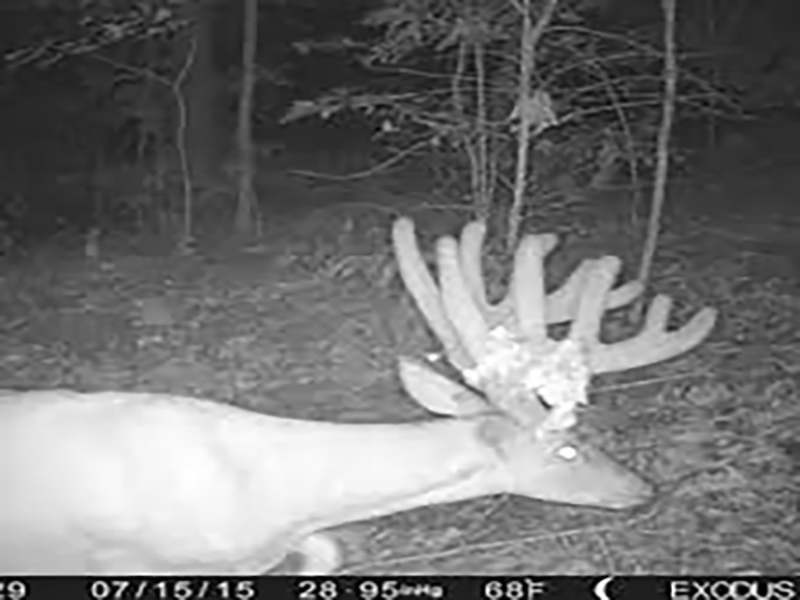cervo: (1, 222, 737, 572)
